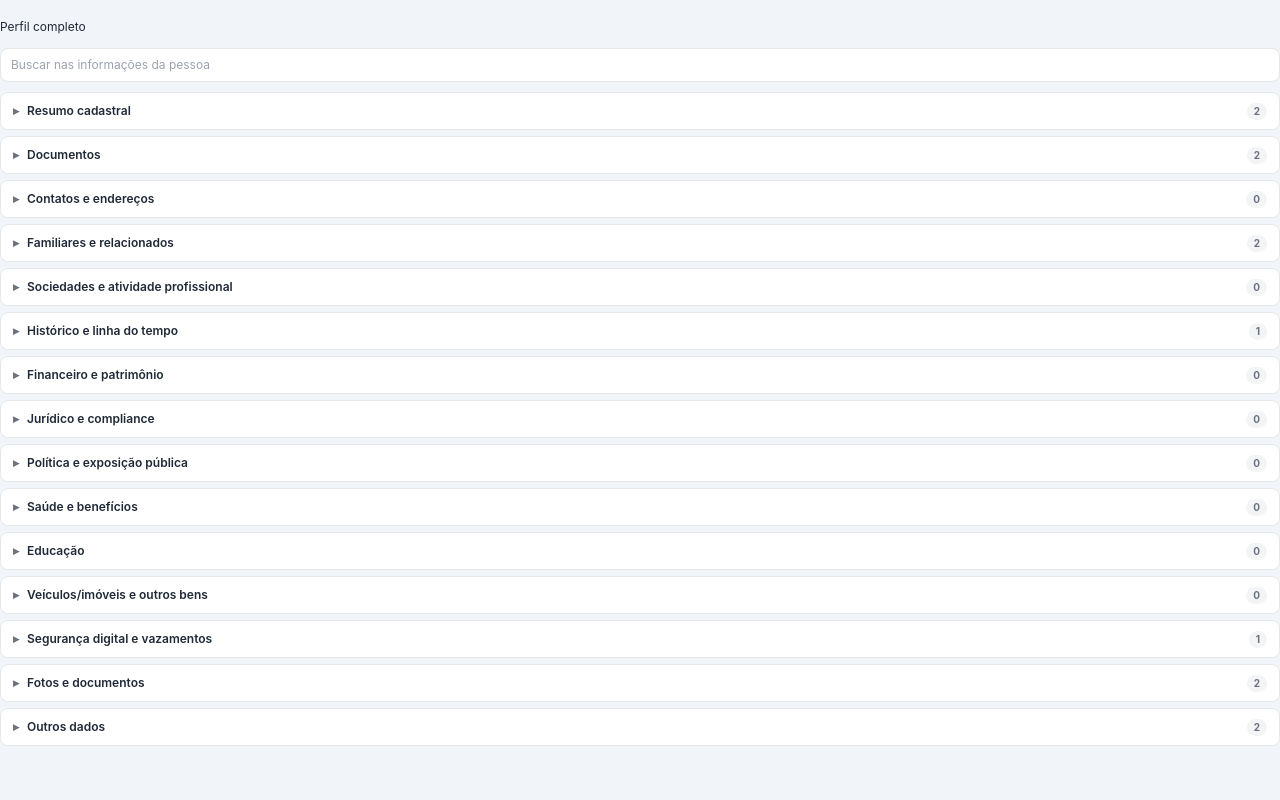
Scenario: PersonProfilePanel — Etapa 2 (categorias, busca, formatação segura) › 25. esquema inseguro (javascript:) nunca vira src de <img> nem miniatura — só texto
Click the button "▸ Outros dados 2".
click(66, 726)  # box [1,709,1279,745]
(page scrolled)
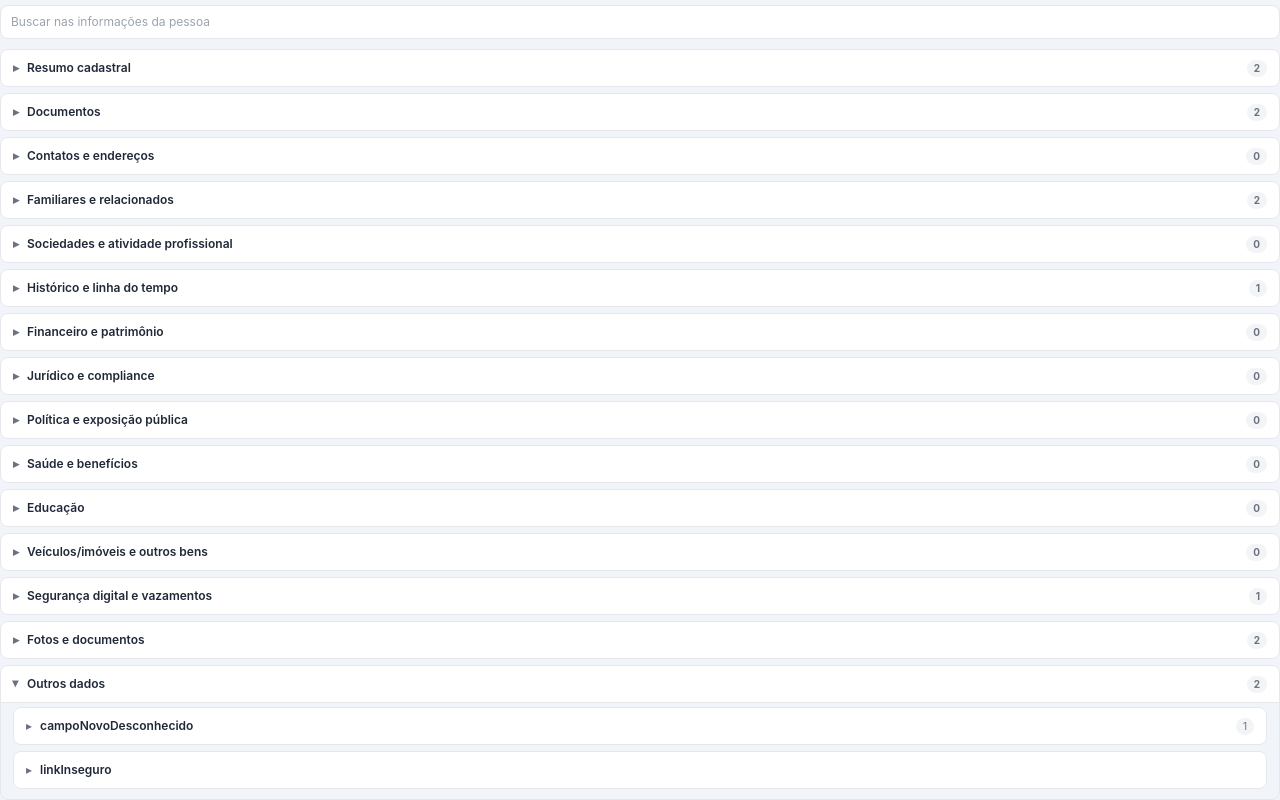
Click the button "▸ linkInseguro".
click(76, 770)  # box [14,752,1266,788]
(page scrolled)
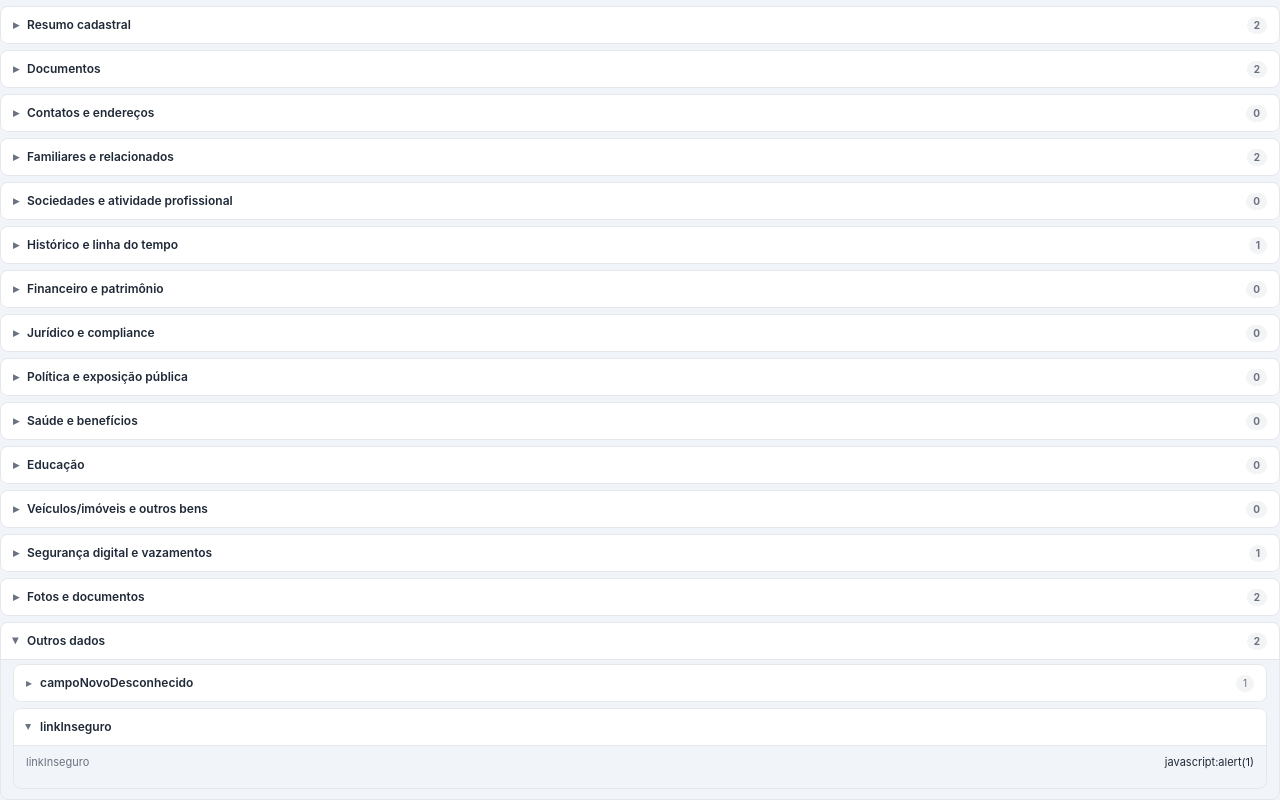
Expected: the text "javascript:alert(1)" is shown, [1165,754,1254,770]
